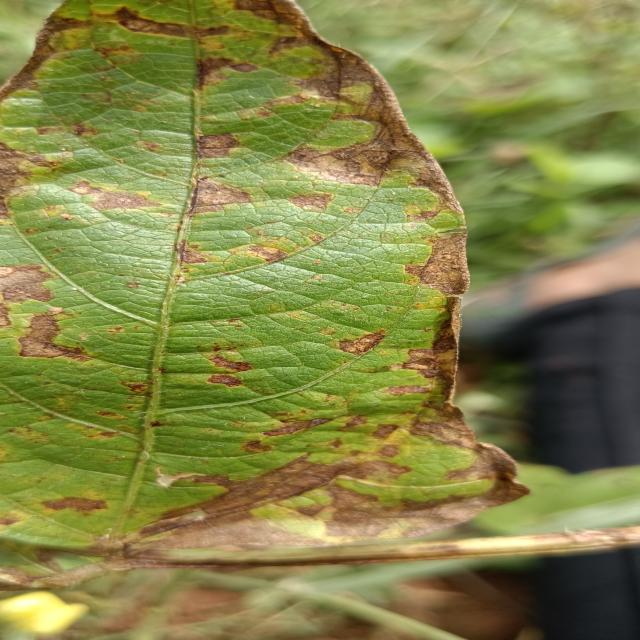Black gram_leaf spot: (0, 0, 537, 565)
